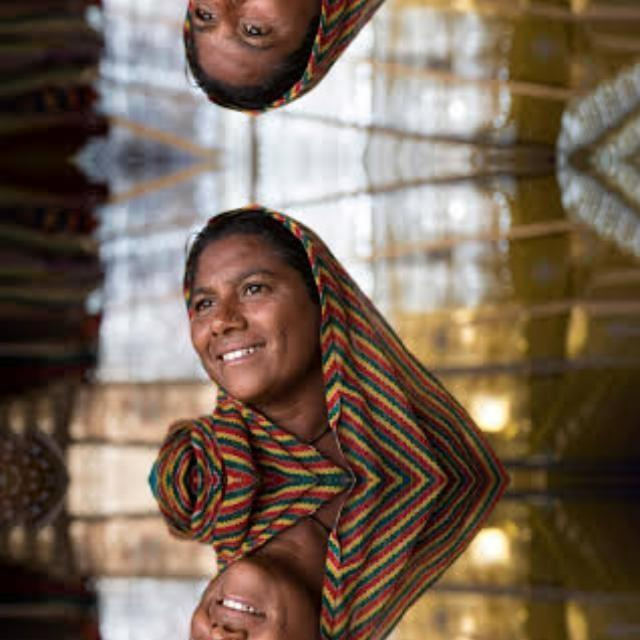person: (152, 190, 422, 480), (152, 480, 422, 640), (152, 0, 422, 130)
